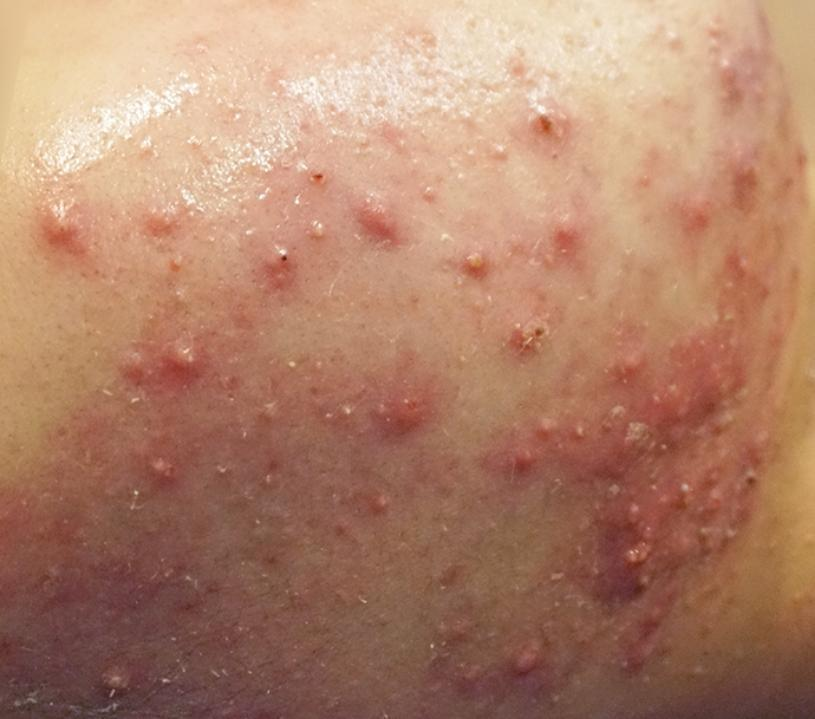papular: (359, 330, 461, 452), (667, 160, 735, 278), (532, 202, 605, 281), (136, 207, 200, 259), (495, 629, 548, 683), (113, 348, 151, 412), (509, 441, 545, 495)
purulent: (25, 193, 106, 272), (156, 325, 224, 405), (445, 227, 510, 303), (89, 657, 156, 718), (253, 241, 314, 306), (295, 206, 347, 265), (143, 449, 182, 489)
sebo-crystan-conglo: (553, 355, 786, 471), (590, 461, 721, 617), (354, 176, 424, 279), (493, 300, 563, 380), (360, 400, 453, 449)
whitehead: (641, 20, 695, 84), (359, 471, 408, 535), (131, 124, 186, 175), (471, 131, 531, 173), (707, 50, 761, 94), (372, 119, 424, 164), (404, 164, 450, 212), (273, 349, 318, 394), (584, 48, 633, 89), (130, 130, 174, 173), (179, 127, 226, 164), (331, 395, 360, 435), (211, 456, 241, 489)
